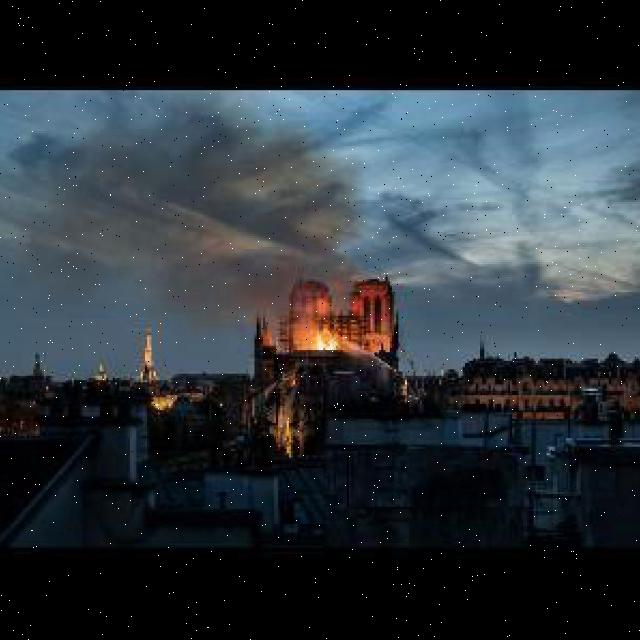fire: (312, 333, 340, 350)
smoke: (16, 99, 356, 322)
